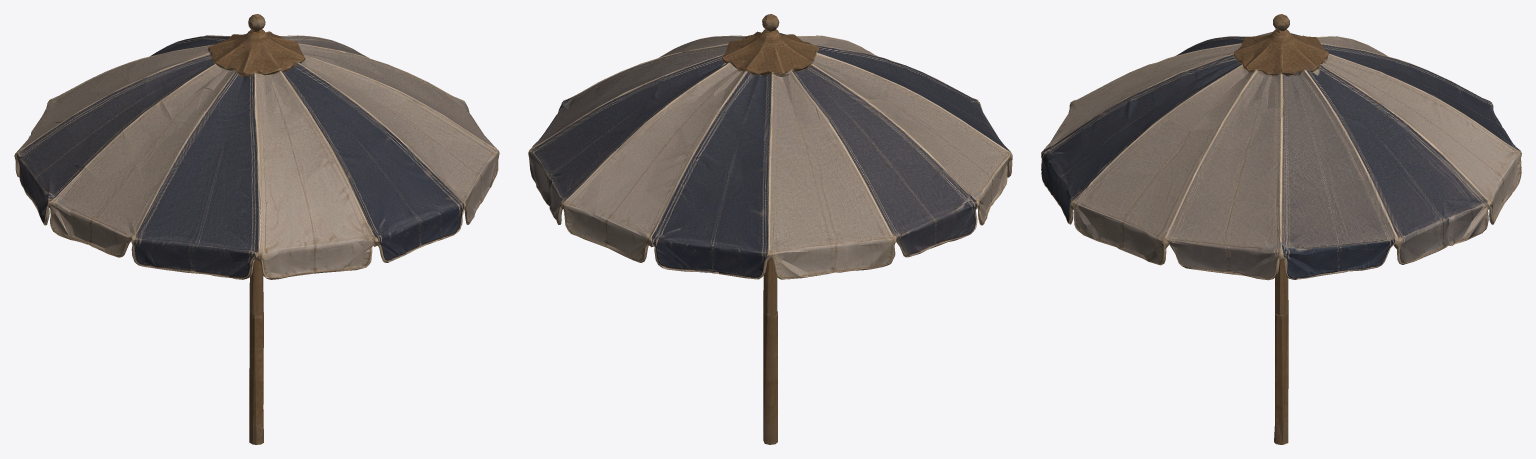
The model's file is beach-parasol.glb.
The picture shows the model from 3 angles, left to right: view 1: azimuth 30°, elevation 25°; view 2: azimuth 150°, elevation 25°; view 3: azimuth 270°, elevation 25°; orthographic projection.
Parts seen in each view (by area): view 1: Mesh_0; view 2: Mesh_0; view 3: Mesh_0.
Part boxes in pixels (x1=…): Mesh_0: x1=14, y1=14, x2=499, y2=444; Mesh_0: x1=528, y1=14, x2=1012, y2=444; Mesh_0: x1=1041, y1=14, x2=1521, y2=444.
Size of the model in its own units: 1.89 by 1.84 by 1.88.
Materials: 1 (1 with a texture image).
